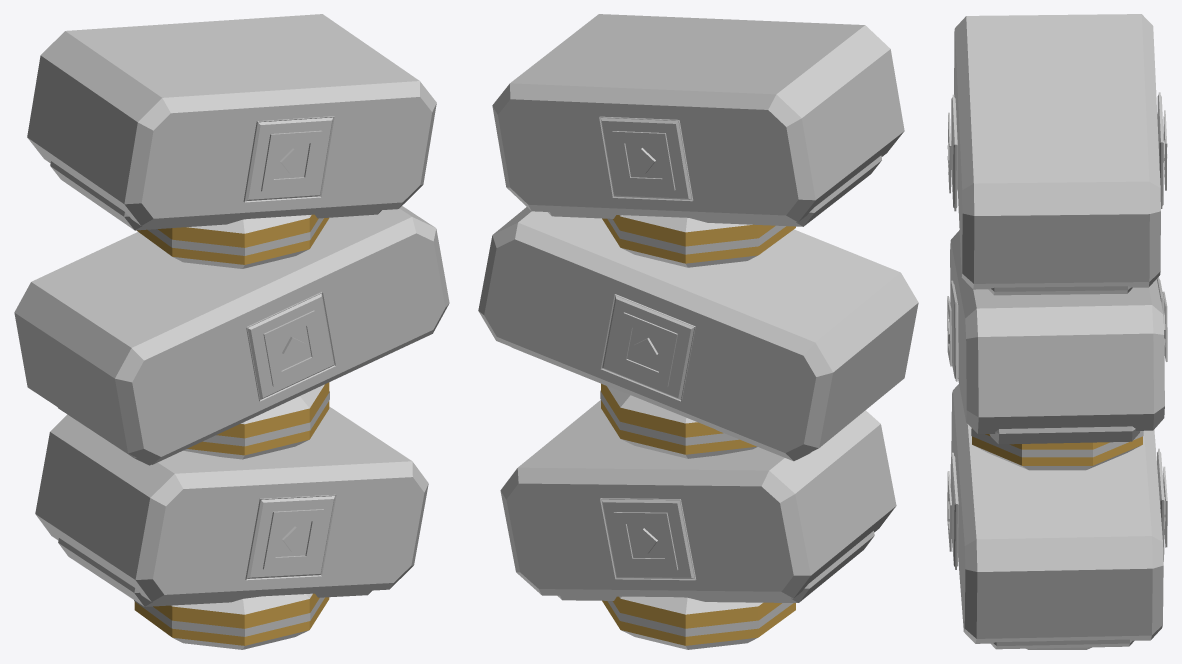
The model's file is wand_motion_06.obj.
The picture shows the model from 3 angles, left to right: view 1: azimuth 30°, elevation 25°; view 2: azimuth 150°, elevation 25°; view 3: azimuth 270°, elevation 25°; orthographic projection. The views are drawn at different scales.
Parts seen in each view (by area): view 1: chamfered_seal_tablet_2, chamfered_seal_tablet_1, chamfered_seal_tablet_0, tablet_spacer_0, tablet_spacer_2, inset_rune_socket_5, inset_rune_socket_3, inset_rune_socket_1, tablet_spacer_1, seal_shadow_base_0, seal_shadow_base_2, tablet_spacer_dark_seam_0 (+2 smaller); view 2: chamfered_seal_tablet_2, chamfered_seal_tablet_1, chamfered_seal_tablet_0, tablet_spacer_0, tablet_spacer_2, inset_rune_socket_2, inset_rune_socket_0, tablet_spacer_1, inset_rune_socket_4, seal_shadow_base_2, seal_shadow_base_0, tablet_spacer_dark_seam_0 (+2 smaller); view 3: chamfered_seal_tablet_2, chamfered_seal_tablet_0, chamfered_seal_tablet_1, tablet_spacer_1, seal_shadow_base_1, tablet_spacer_dark_seam_1, seal_shadow_base_2, seal_shadow_base_0, inset_rune_socket_1, inset_rune_socket_5, inset_rune_socket_3, inset_rune_socket_4 (+1 smaller).
Part boxes in pixels (<box>): chamfered_seal_tablet_2: <box>27,14,436,225</box>; chamfered_seal_tablet_1: <box>14,206,449,464</box>; chamfered_seal_tablet_0: <box>35,406,428,601</box>; tablet_spacer_0: <box>134,593,329,649</box>; tablet_spacer_2: <box>136,214,329,268</box>; inset_rune_socket_5: <box>243,116,334,202</box>; inset_rune_socket_3: <box>246,292,335,401</box>; inset_rune_socket_1: <box>245,494,336,580</box>; tablet_spacer_1: <box>183,382,329,459</box>; seal_shadow_base_0: <box>58,538,371,606</box>; seal_shadow_base_2: <box>50,161,381,230</box>; tablet_spacer_dark_seam_0: <box>134,597,324,636</box>; chamfered_seal_tablet_2: <box>492,14,904,222</box>; chamfered_seal_tablet_1: <box>478,207,918,460</box>; chamfered_seal_tablet_0: <box>500,400,896,598</box>; tablet_spacer_0: <box>602,596,795,649</box>; tablet_spacer_2: <box>602,215,795,267</box>; inset_rune_socket_2: <box>601,294,695,401</box>; inset_rune_socket_0: <box>600,498,696,580</box>; tablet_spacer_1: <box>601,383,757,458</box>; inset_rune_socket_4: <box>599,116,693,201</box>; seal_shadow_base_2: <box>548,155,881,226</box>; seal_shadow_base_0: <box>557,531,874,602</box>; tablet_spacer_dark_seam_0: <box>607,601,793,636</box>; chamfered_seal_tablet_2: <box>954,14,1160,289</box>; chamfered_seal_tablet_0: <box>951,384,1163,643</box>; chamfered_seal_tablet_1: <box>950,230,1164,434</box>; tablet_spacer_1: <box>972,428,1142,470</box>; seal_shadow_base_1: <box>989,426,1140,444</box>; tablet_spacer_dark_seam_1: <box>971,428,1143,457</box>; seal_shadow_base_2: <box>988,286,1132,295</box>; seal_shadow_base_0: <box>991,639,1134,649</box>; inset_rune_socket_1: <box>950,452,958,569</box>; inset_rune_socket_5: <box>951,94,957,211</box>; inset_rune_socket_3: <box>950,280,958,381</box>; inset_rune_socket_4: <box>1157,92,1163,208</box>.
Bounding box in the file's own units: 0.1994 × 0.3154 × 0.1147.
